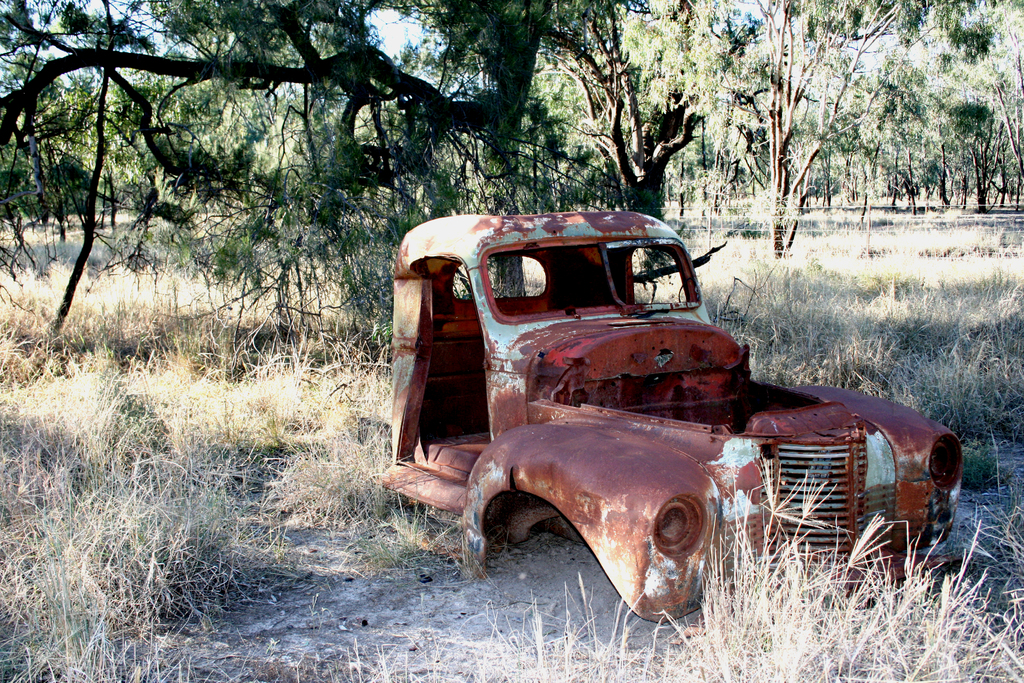Tree: (0, 0, 739, 382), (739, 0, 1023, 260)
